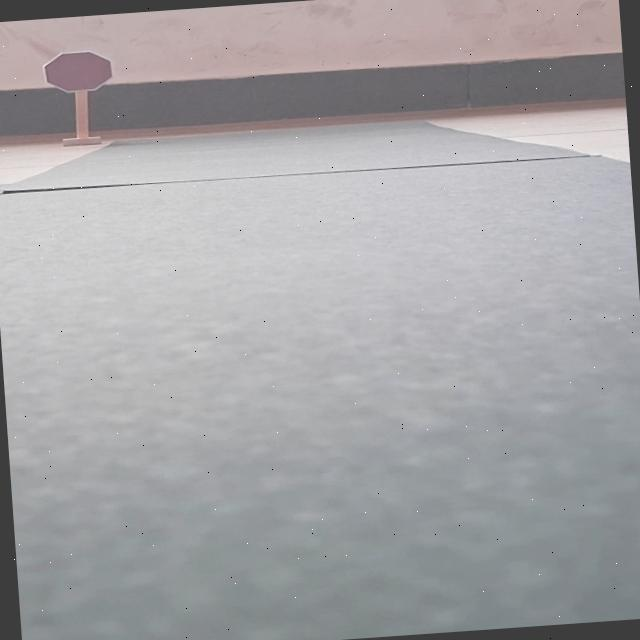Stop: (41, 49, 113, 94)
